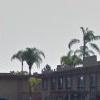Palm tree: (56, 18, 97, 63)
